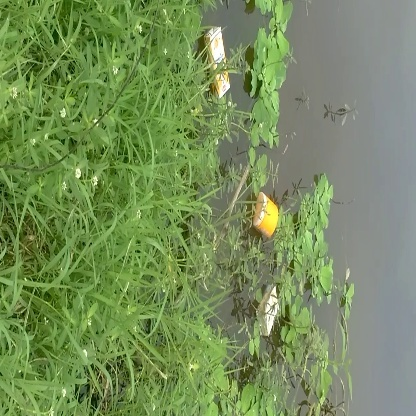bottle: (245, 189, 289, 241)
